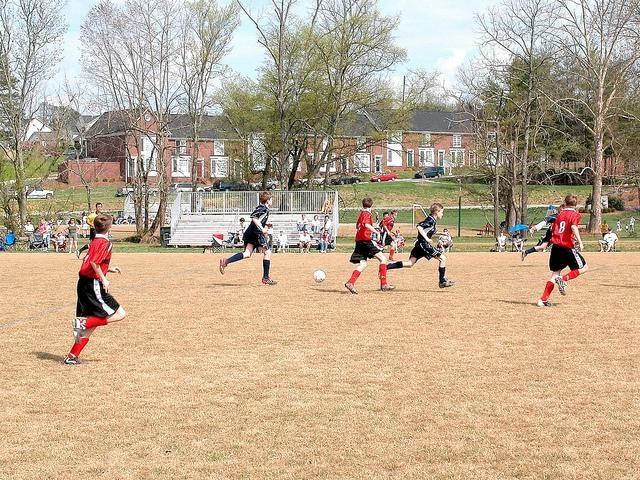car: (531, 166, 579, 185), (6, 184, 54, 200), (115, 183, 157, 197), (212, 179, 252, 191), (414, 166, 444, 179), (168, 182, 205, 192), (250, 178, 277, 191), (334, 174, 363, 185), (370, 172, 398, 182), (298, 174, 309, 184), (314, 176, 326, 184)
